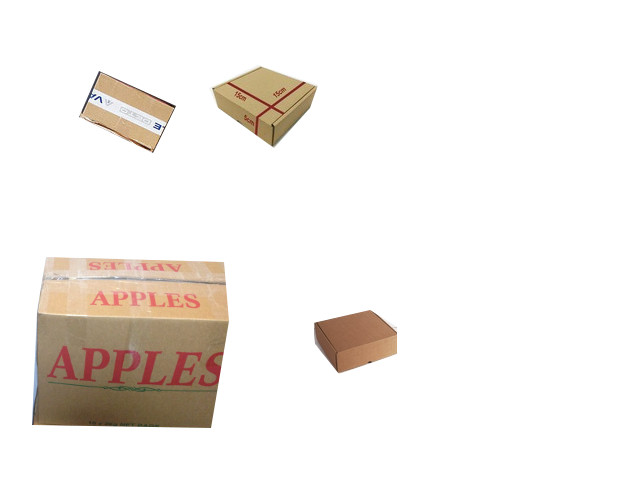cardboard: (35, 260, 229, 428), (214, 66, 318, 144), (79, 72, 176, 151), (316, 309, 396, 373)
